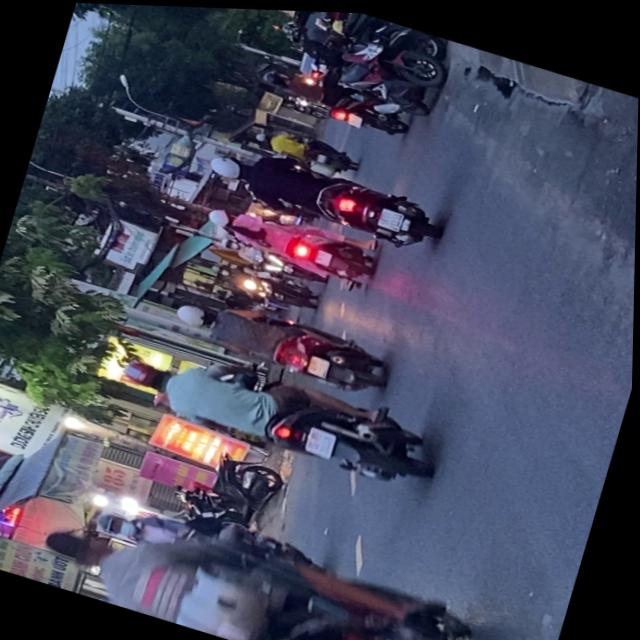helmet: (118, 354, 172, 394), (93, 507, 141, 542), (205, 151, 247, 182), (173, 299, 214, 330), (204, 205, 234, 228)
licenseplate: (27, 469, 529, 640), (107, 328, 448, 498), (198, 132, 449, 258), (166, 283, 396, 400), (196, 192, 382, 289)
motorcyclist: (39, 522, 112, 574)
nohelmet: (303, 424, 337, 457), (376, 205, 403, 228), (306, 352, 331, 376), (313, 246, 332, 264)
